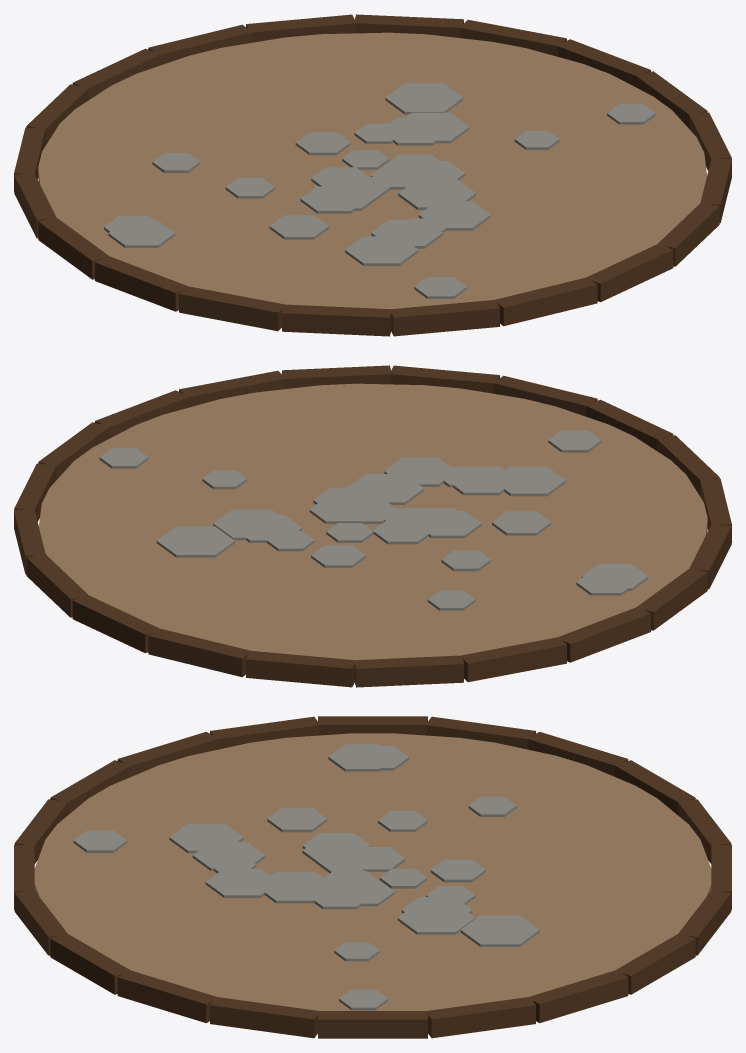
File: threshing_floor.glb
3 views of the same model, one above another, from view 1: azimuth 30°, elevation 25°; view 2: azimuth 150°, elevation 25°; view 3: azimuth 270°, elevation 25° (orthographic).
Parts seen in each view (by area): view 1: threshing_floor; view 2: threshing_floor; view 3: threshing_floor.
Part boxes in pixels (x1,y1,x2,y2): threshing_floor: (14,14,731,336); threshing_floor: (14,365,731,687); threshing_floor: (14,716,731,1038).
Size of the model in its own units: 4.84 by 0.14 by 4.84.
